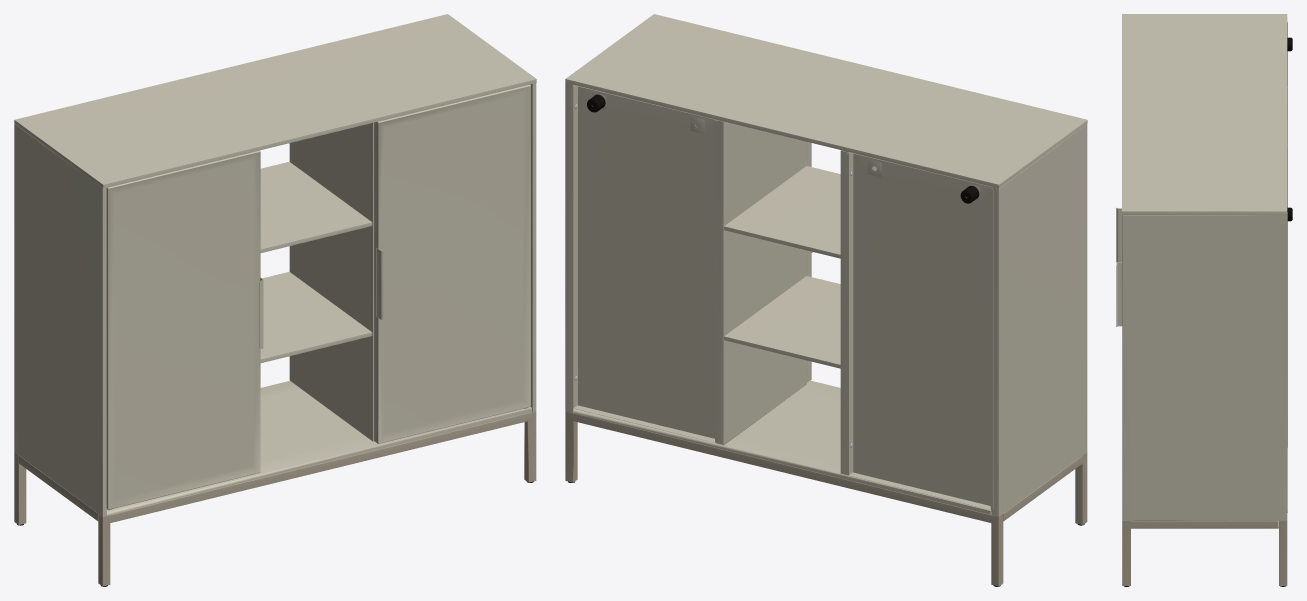
The model's file is tullstorp.glb.
3 renders of one model, left to right at view 1: azimuth 30°, elevation 25°; view 2: azimuth 150°, elevation 25°; view 3: azimuth 270°, elevation 25°, orthographic. The views are drawn at different scales.
Bounding box in the file's own units: 0.99 × 0.8802 × 0.3736.
Materials: 1 (1 with a texture image).
